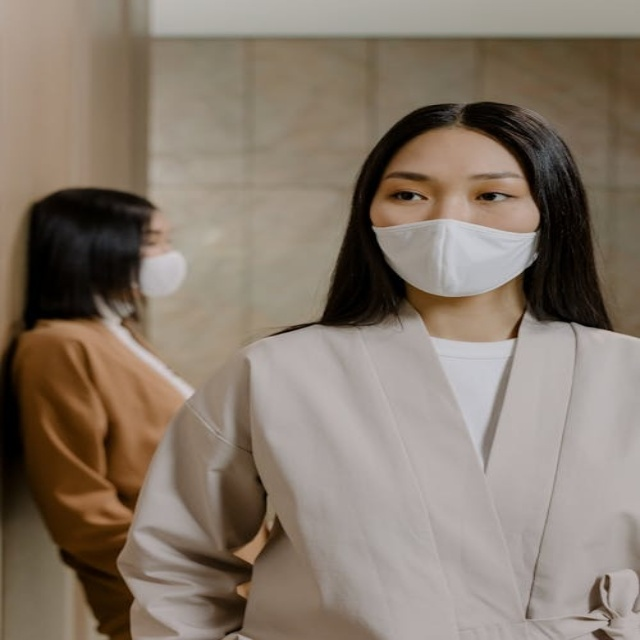Mascara: (369, 217, 543, 297), (138, 249, 190, 298)
Sin_gafas: (381, 167, 521, 210), (138, 225, 175, 248)
